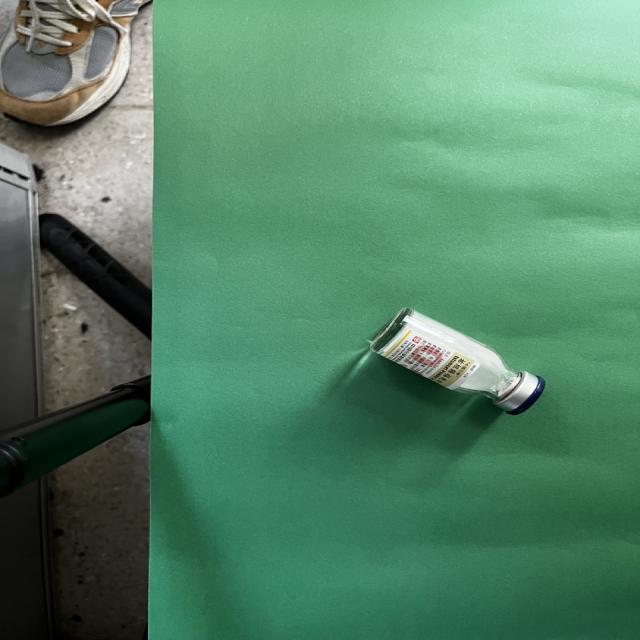Vials: (370, 308, 545, 415)
